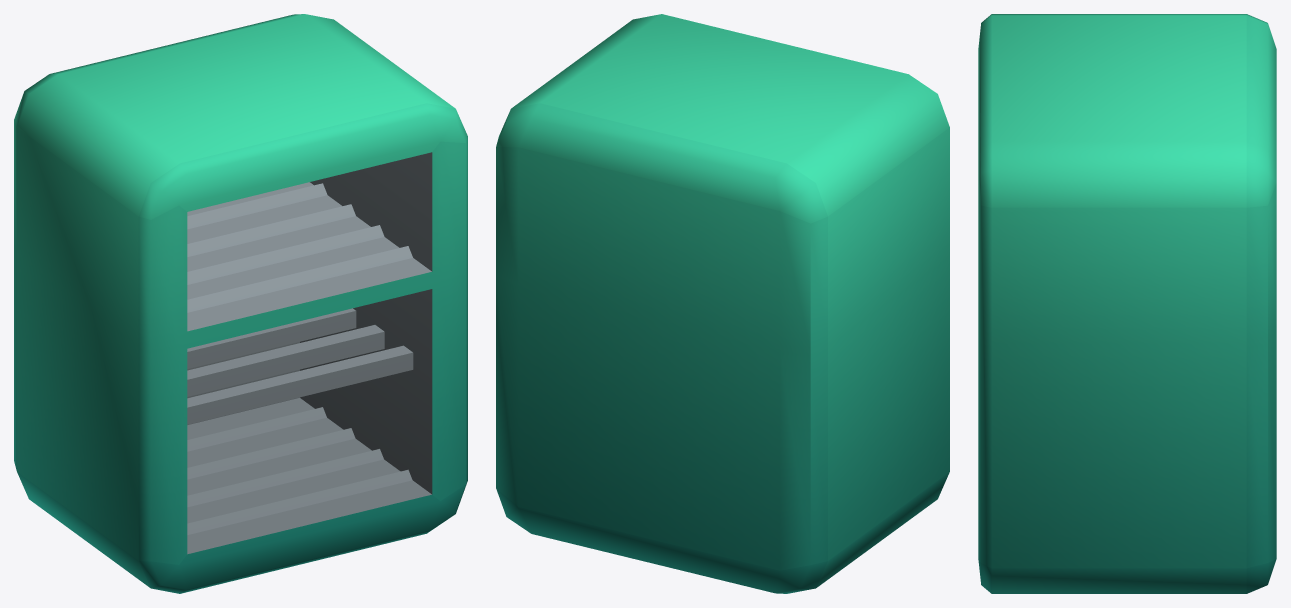
The model's file is fridge_A.obj.
The picture shows the model from 3 angles, left to right: view 1: azimuth 30°, elevation 25°; view 2: azimuth 150°, elevation 25°; view 3: azimuth 270°, elevation 25°; orthographic projection. The views are drawn at different scales.
Visible parts, largest first — view 1: fridge_A_Cube.616; view 2: fridge_A_Cube.616; view 3: fridge_A_Cube.616.
Part boxes in pixels (x1,y1,x2,y2): fridge_A_Cube.616: (14, 14, 467, 593); fridge_A_Cube.616: (496, 14, 949, 593); fridge_A_Cube.616: (978, 14, 1276, 593).
Bounding box in the file's own units: 2 × 2.5 × 1.5.
1 material, 1 textured.
